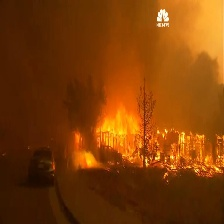fire: (99, 109, 224, 177), (71, 128, 94, 170)
smoke: (5, 1, 222, 119)
